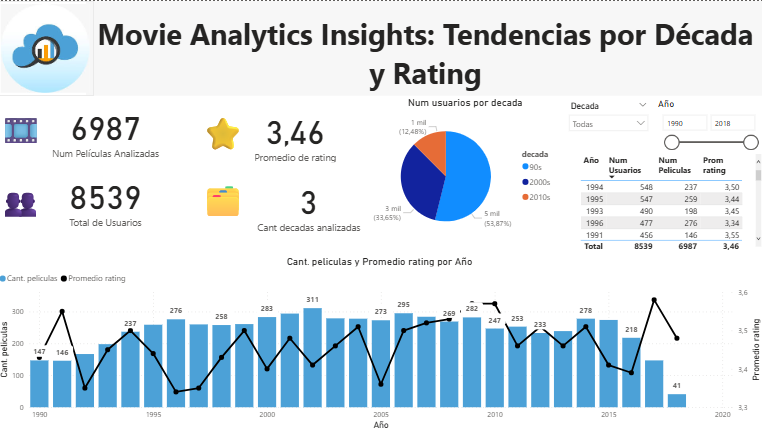

The dashboard page shown, as its layout file describes it:
{"tool":"powerbi","page":{"name":"Página 1","canvas":[1280,720],"ordinal":0},"visuals":[{"type":"lineClusteredColumnComboChart","fields":{"Category":["movies_insights.year"],"Y":["Sum(movies_insights.num_peliculas)"],"Y2":["Avg(movies_insights.promedio_rating)"]},"box":[0,422.9,1279,297.1],"z":0},{"type":"textbox","box":[149.3,0,1131.2,158],"z":1000},{"type":"image","box":[0,0,163.9,158],"z":2000},{"type":"card","fields":{"Values":["Sum(movies_insights.num_peliculas)"]},"box":[80.5,158,204.9,115.6],"z":3000},{"type":"card","fields":{"Values":["Sum(movies_insights.num_usuarios)"]},"box":[80.5,273.7,204.9,115.6],"z":4000},{"type":"textbox","box":[0,171.2,80.5,90.7],"z":5000},{"type":"textbox","box":[0,288.3,79,83.4],"z":6000},{"type":"card","fields":{"Values":["Avg(movies_insights.promedio_rating)"]},"box":[422.9,171.2,150.7,102.4],"z":6001},{"type":"card","fields":{"Values":["Count(movies_insights.decada)"]},"box":[422.9,288.3,196.1,101],"z":6002},{"type":"textbox","box":[336.6,177.1,86.3,90.7],"z":6003},{"type":"textbox","box":[336.6,288.3,86.3,90.7],"z":6004},{"type":"slicer","fields":{"Values":["movies_insights.decada"]},"box":[945.4,161,152.2,76.1],"z":6005},{"type":"pieChart","fields":{"Y":["Sum(movies_insights.num_usuarios)"],"Category":["movies_insights.decada"]},"box":[617.6,158,327.8,248.8],"z":6006},{"type":"slicer","title":"Año","fields":{"Values":["movies_insights.year"]},"box":[1097.6,161,181.5,89.3],"z":6007},{"type":"tableEx","fields":{"Values":["movies_insights.year","Sum(movies_insights.num_usuarios)","Sum(movies_insights.num_peliculas)","Avg(movies_insights.promedio_rating)"]},"box":[968.8,250.2,311.7,172.7],"z":6008}]}

Visuals, with their boxes in screenshot pixels (x1, y1, x2, y2), scaled from the page's 1280x720 canvas onto the 762x433 screenshot:
lineClusteredColumnComboChart - movies_insights.year x Sum(movies_insights.num_peliculas): crop(0, 254, 761, 432)
textbox: crop(89, 0, 761, 95)
image: crop(0, 0, 98, 95)
card - Sum(movies_insights.num_peliculas): crop(48, 95, 170, 165)
card - Sum(movies_insights.num_usuarios): crop(48, 165, 170, 234)
textbox: crop(0, 103, 48, 158)
textbox: crop(0, 173, 47, 224)
card - Avg(movies_insights.promedio_rating): crop(252, 103, 341, 165)
card - Count(movies_insights.decada): crop(252, 173, 368, 234)
textbox: crop(200, 107, 252, 161)
textbox: crop(200, 173, 252, 228)
slicer - movies_insights.decada: crop(563, 97, 653, 143)
pieChart - Sum(movies_insights.num_usuarios) x movies_insights.decada: crop(368, 95, 563, 245)
"Año" slicer: crop(653, 97, 761, 151)
tableEx - movies_insights.year x Sum(movies_insights.num_usuarios): crop(577, 150, 761, 254)
